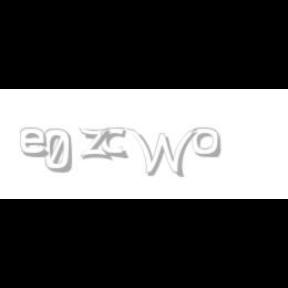0: (44, 128, 76, 174)
W: (126, 128, 198, 178)
c: (101, 128, 130, 160)
e: (20, 128, 53, 158)
o: (192, 128, 220, 158)
z: (78, 128, 114, 160)
